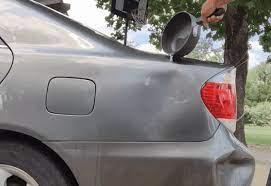quaterpanel-dent: (7, 56, 204, 156)
rear-bumper-dent: (146, 123, 266, 185)
